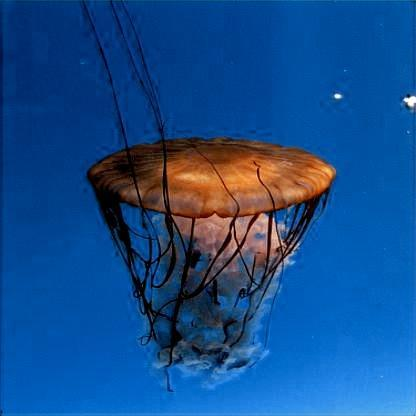Dressed: (90, 142, 334, 380)
